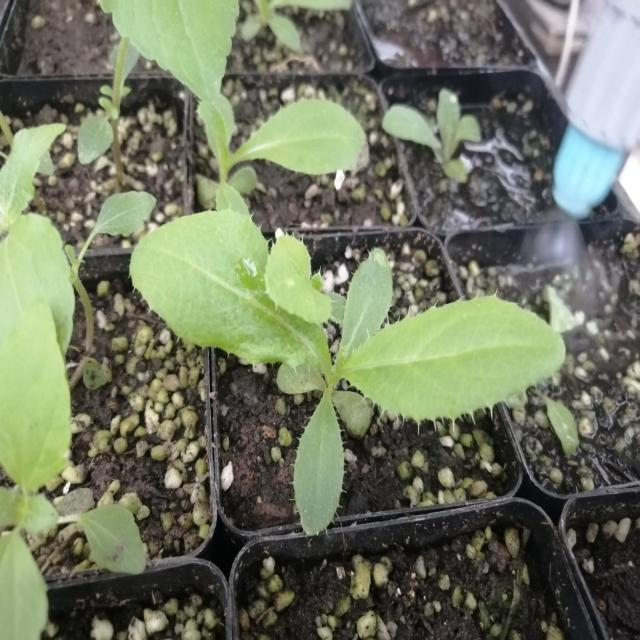field_thistle: (131, 180, 554, 492)
